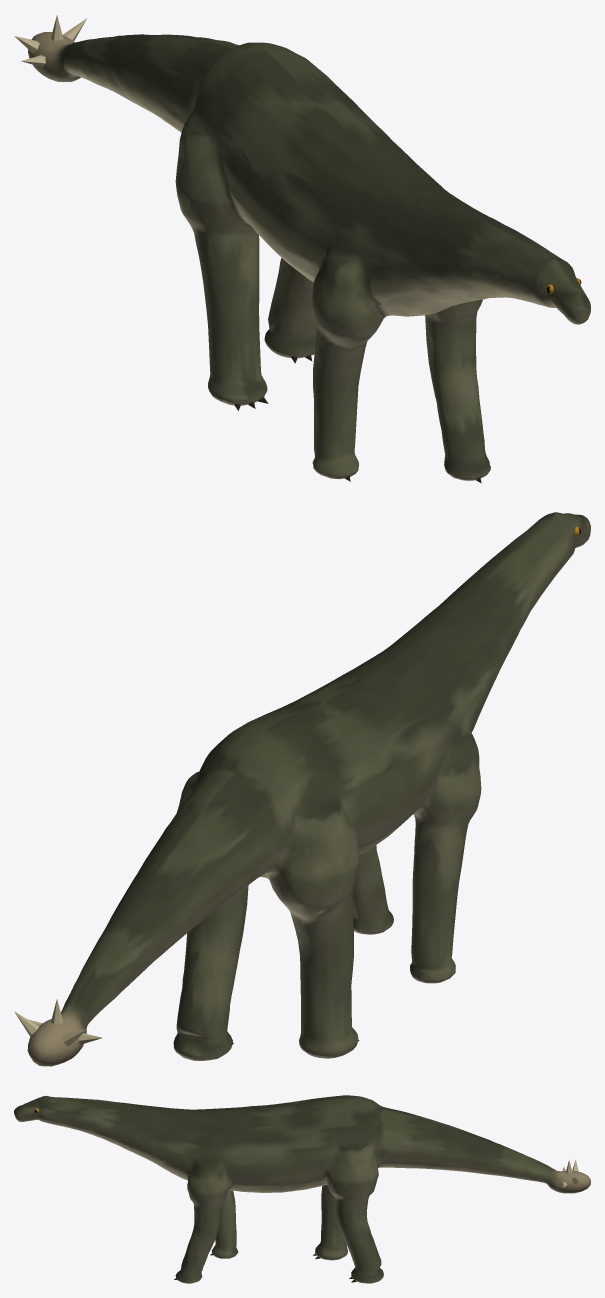
Rendered from Shunosaurus.fbx.
The picture shows the model from 3 angles, top to bottom: view 1: azimuth 30°, elevation 25°; view 2: azimuth 150°, elevation 25°; view 3: azimuth 270°, elevation 25°; orthographic projection. The views are drawn at different scales.
Parts seen in each view (by area): view 1: Shunosaurus; view 2: Shunosaurus; view 3: Shunosaurus.
Part boxes in pixels (bbox=[...]): Shunosaurus: bbox=[14, 15, 590, 483]; Shunosaurus: bbox=[14, 512, 590, 1066]; Shunosaurus: bbox=[14, 1095, 590, 1283].
Bounding box in the file's own units: 0.6781 × 1.27 × 3.83.
